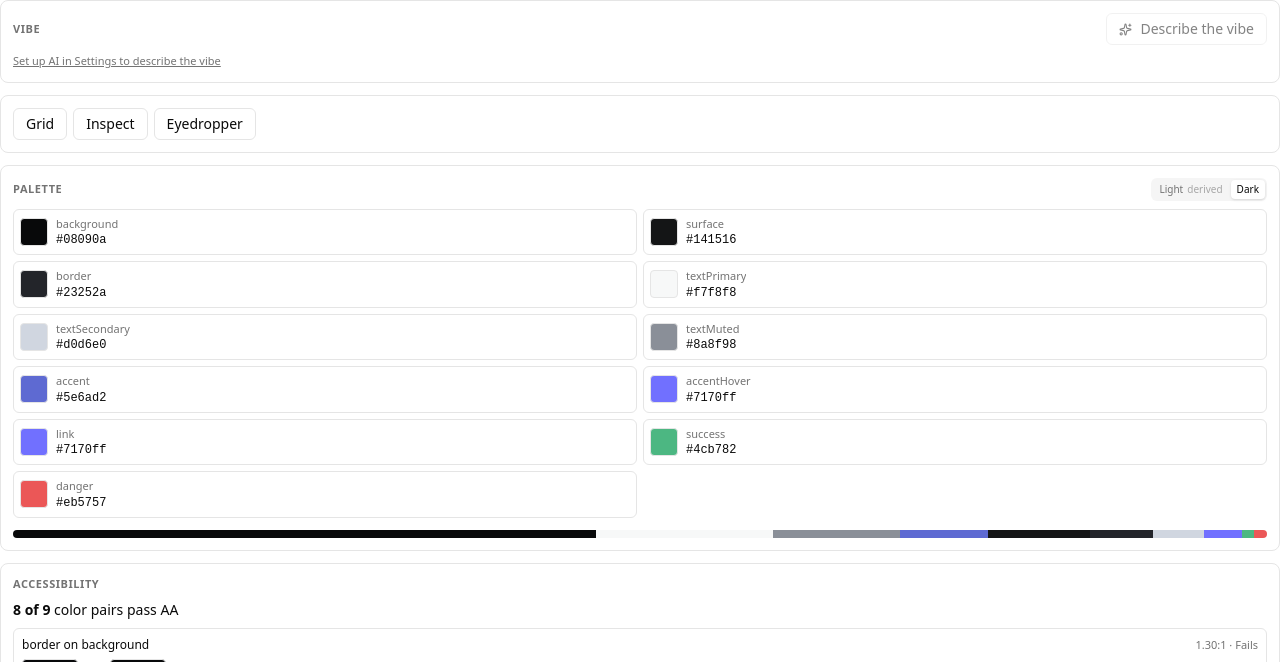
Test case: T1.38 Inspect Port listener (SPC-27) › T1.38 an inspector Port from another tab is ignored, not disconnected
The image size is (1280, 662).
What coordinates should you click on to do the following:
click the button "Inspect"
I would click on:
 (110, 124)
Its box is [73,108,148,140].
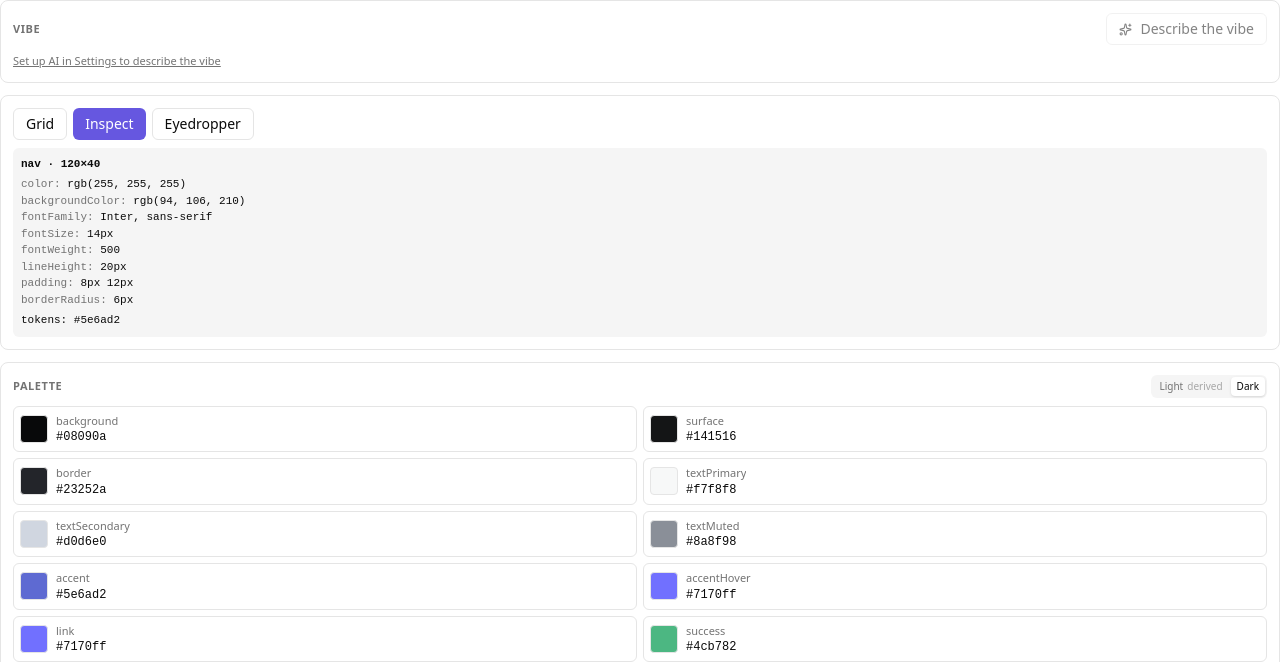
Expected: the element with test id "inspector-card" shows "nav · 120×40", [13,148,1267,336]
